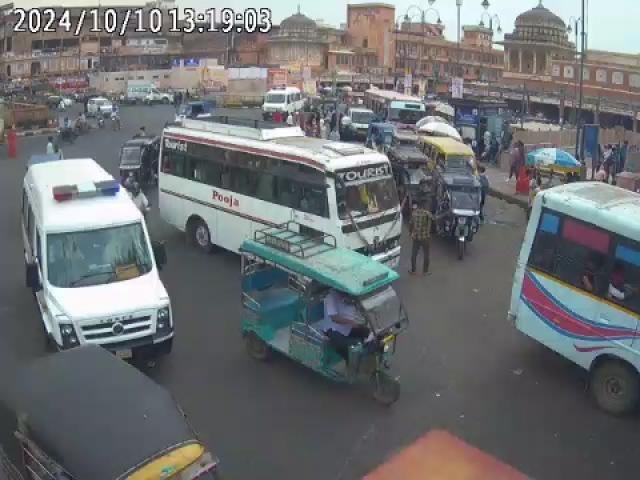auto: (230, 231, 408, 405), (116, 136, 156, 194)
bus: (154, 120, 400, 260), (21, 154, 178, 364), (511, 182, 638, 431), (364, 86, 427, 132)
